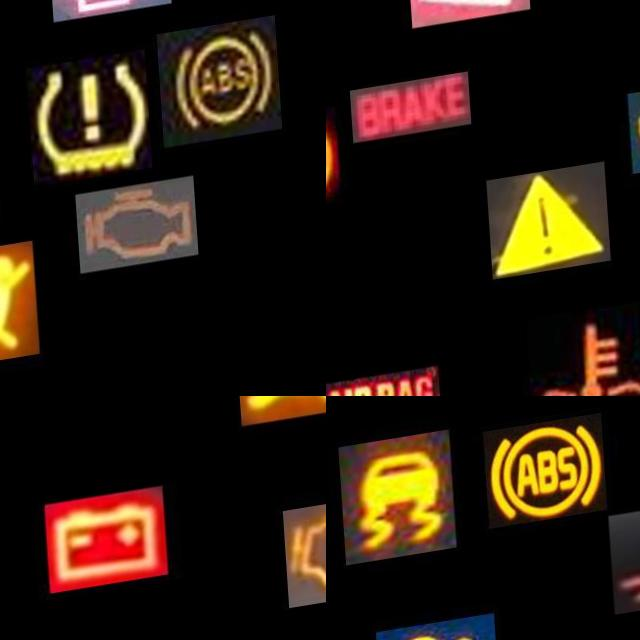Central Warning lamp: (482, 176, 606, 290)
Engine cooling system: (519, 316, 640, 396), (604, 511, 640, 626)
